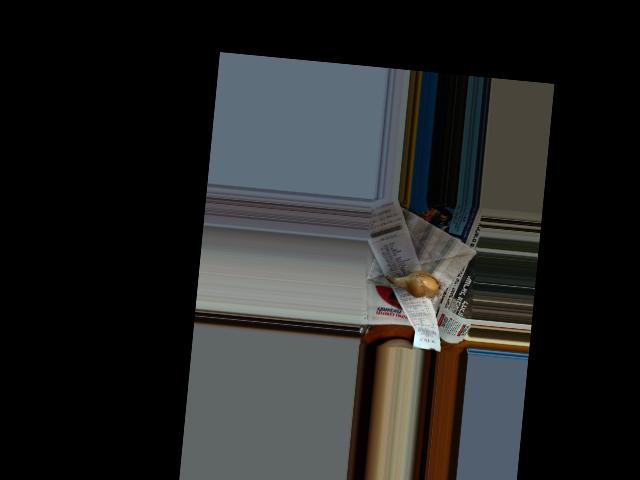onion: (389, 267, 442, 300)
